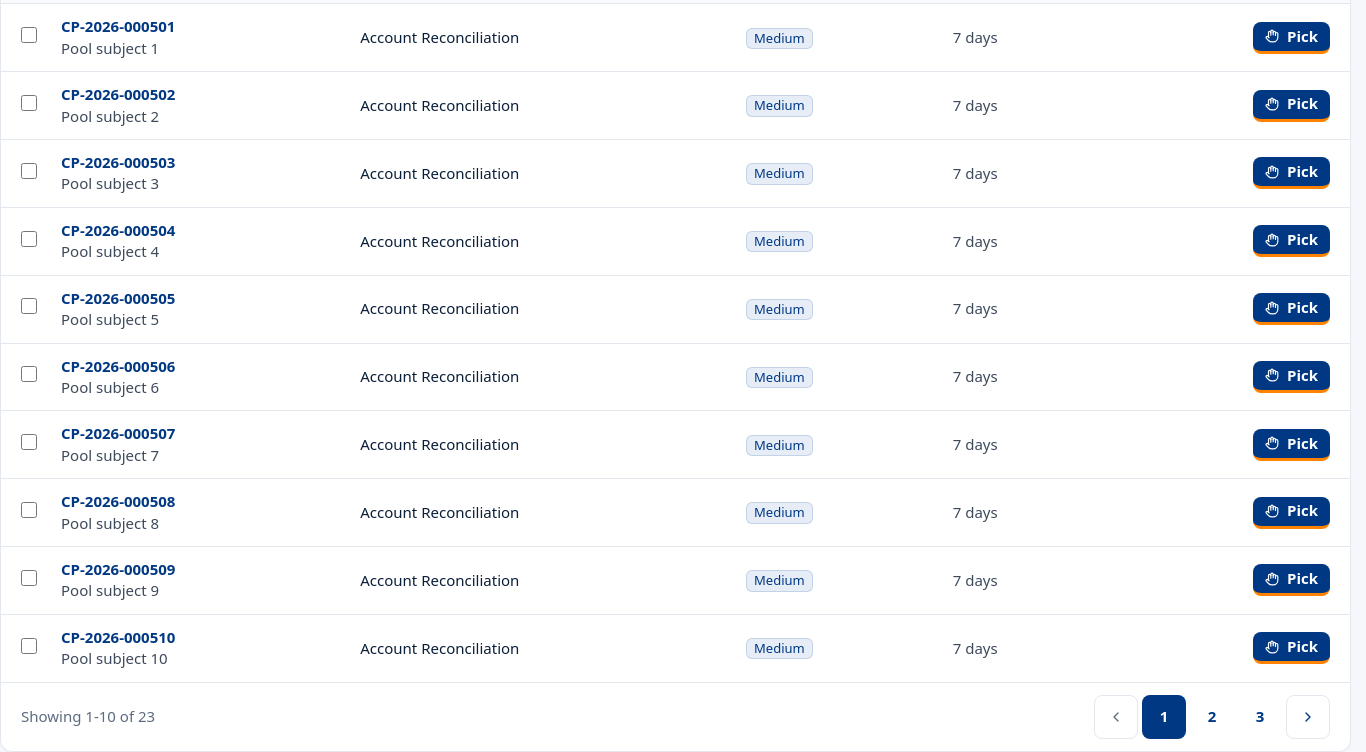
Test: Unit pool › pages the pool on the server (10 a page, the server's total), shows the subject, and a search goes back to page 1
The width and height of the screenshot is (1366, 752).
(page scrolled)
Expected: the text with test id "pager-summary" reads "Showing 1-10 of 23", [21,706,155,727]
Expected: the text with test id "pool-subject" reads "Pool subject 1", [61,38,159,58]
Click the button named "Page 3".
click(1260, 717)  # box [1238,695,1282,739]
(page scrolled)
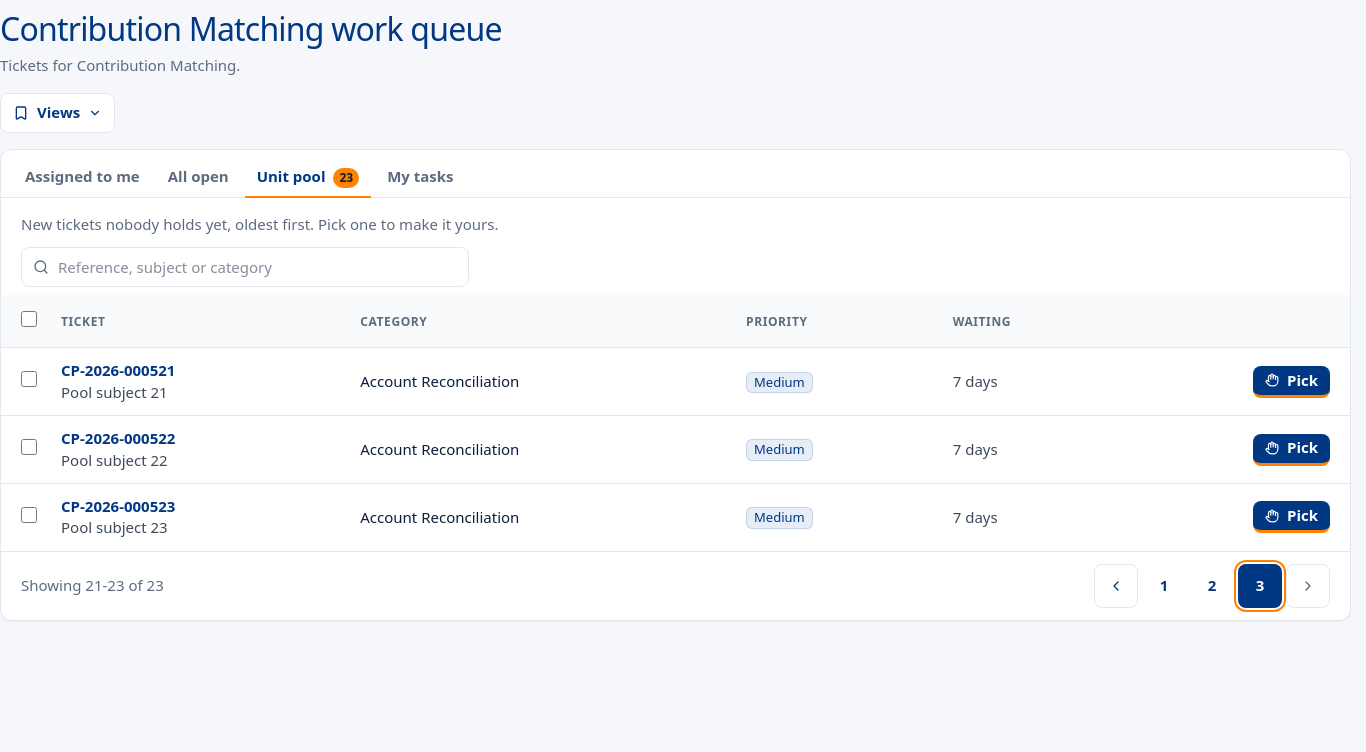
Result: the text "Showing 21-23 of 23" is shown at [21,575,164,596]
Type "subject 2" into the search field named "Search the pool".
click(245, 267); type("subject 2")  # box [21,247,469,287]
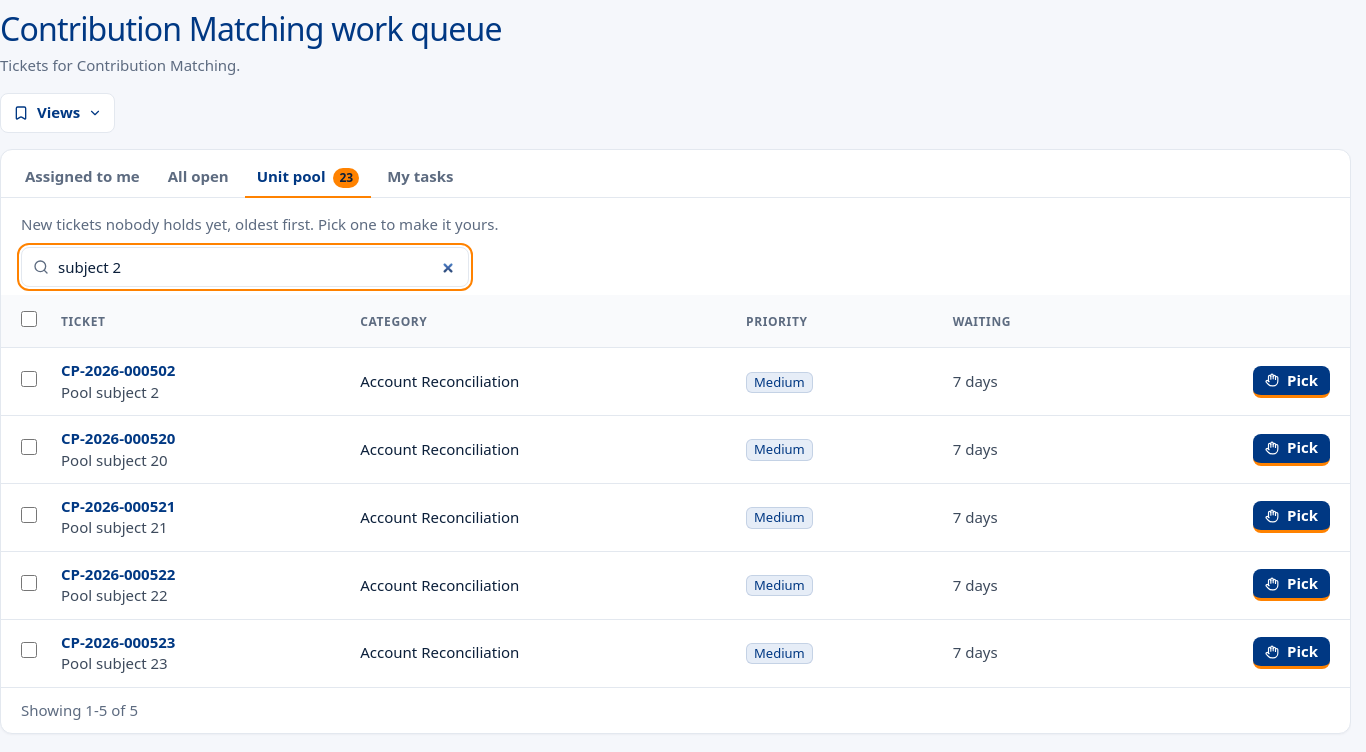
Result: the text "Showing 1-5 of 5" is shown at [21,700,138,721]
